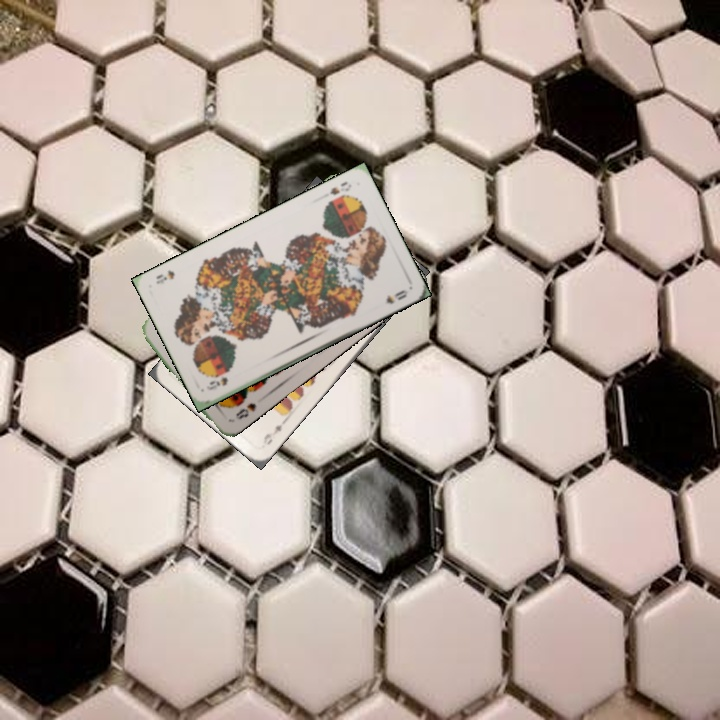E9: (259, 416, 288, 448)
S8: (231, 399, 259, 422)
SO: (326, 177, 354, 198), (203, 373, 231, 393)
